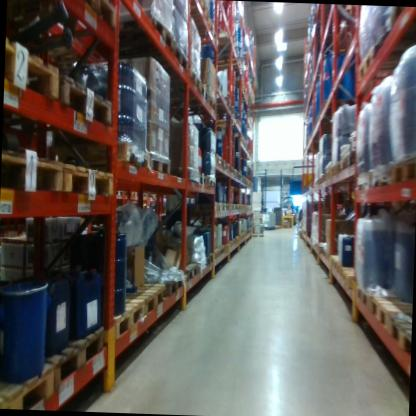pallet: (32, 316, 114, 401), (19, 63, 116, 132), (5, 32, 63, 106), (9, 0, 128, 34), (1, 145, 68, 202), (0, 351, 63, 409), (59, 155, 118, 214), (96, 11, 181, 51), (76, 292, 143, 341), (72, 135, 152, 175), (352, 47, 409, 88), (103, 276, 165, 312), (369, 6, 416, 46), (384, 149, 416, 199), (145, 66, 206, 90), (369, 297, 412, 331), (161, 93, 224, 116), (153, 82, 211, 104), (387, 311, 412, 356), (184, 12, 225, 39), (202, 25, 242, 52), (154, 273, 182, 306), (369, 161, 394, 197), (170, 261, 198, 290), (356, 288, 380, 320), (211, 57, 246, 76), (174, 43, 195, 71), (342, 271, 369, 290), (151, 154, 174, 175), (187, 202, 222, 215), (195, 251, 215, 273), (345, 145, 359, 174), (331, 252, 346, 278), (229, 160, 242, 186), (355, 175, 370, 195), (207, 150, 223, 168), (215, 243, 227, 263), (206, 247, 220, 263), (205, 174, 220, 188), (198, 171, 209, 190), (331, 159, 340, 181), (337, 158, 347, 177), (220, 157, 231, 174), (220, 202, 229, 218), (250, 231, 264, 238), (269, 222, 276, 232), (275, 222, 283, 229)
